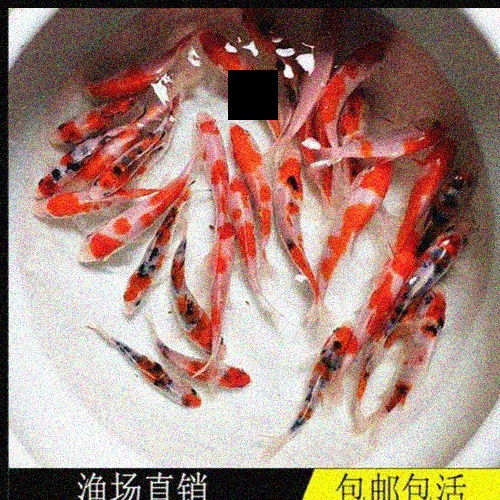fry: (274, 317, 367, 446), (269, 141, 328, 323), (318, 162, 402, 284), (377, 292, 453, 418), (385, 135, 452, 257), (278, 14, 346, 129), (395, 214, 478, 304), (75, 177, 165, 259), (162, 244, 226, 353), (320, 29, 390, 123), (326, 83, 383, 192), (202, 22, 268, 113), (162, 337, 261, 396), (222, 111, 274, 220), (222, 172, 265, 301), (80, 48, 180, 101), (112, 217, 165, 315), (118, 355, 200, 418), (237, 9, 300, 87), (38, 93, 135, 141), (423, 159, 481, 239), (356, 113, 444, 165), (192, 104, 230, 220), (206, 216, 240, 333), (92, 141, 160, 199), (32, 184, 134, 220), (83, 116, 147, 172), (28, 137, 84, 196)
